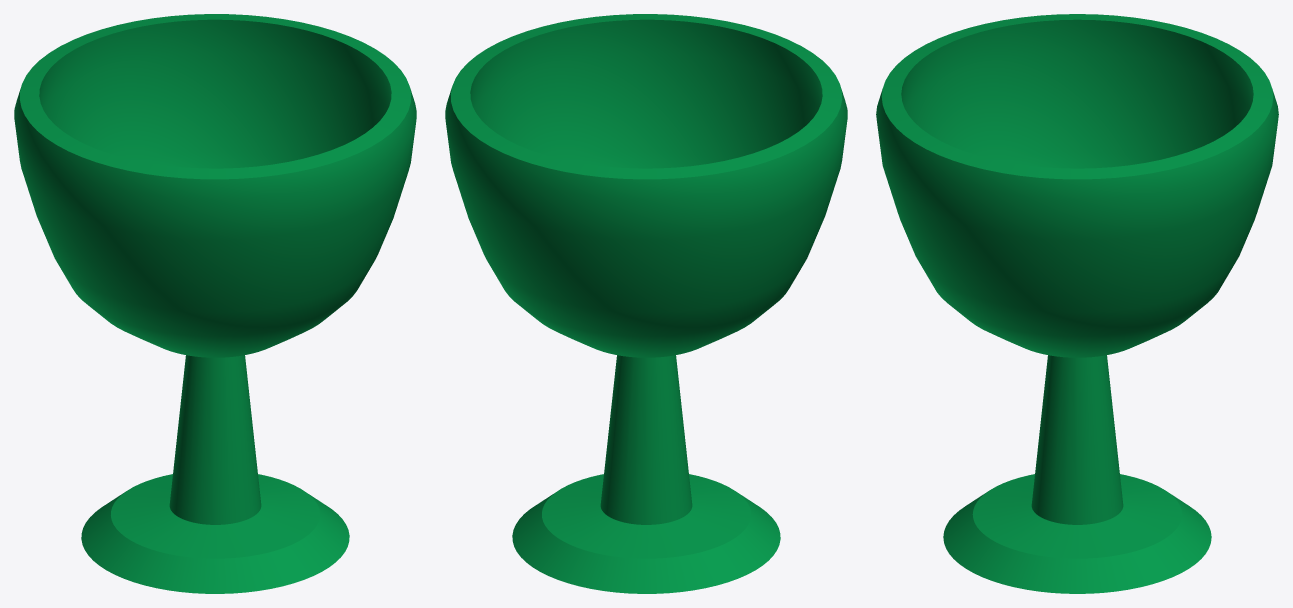
File: cup8.glb
3 renders of one model, left to right at view 1: azimuth 30°, elevation 25°; view 2: azimuth 150°, elevation 25°; view 3: azimuth 270°, elevation 25°, orthographic.
Parts seen in each view (by area): view 1: Cup8.001; view 2: Cup8.001; view 3: Cup8.001.
Part boxes in pixels (x1,y1,x2,y2): Cup8.001: [14, 14, 416, 593]; Cup8.001: [445, 14, 847, 593]; Cup8.001: [876, 14, 1278, 593].
Bounding box in the file's own units: 0.8853 × 1.09 × 0.8853.
